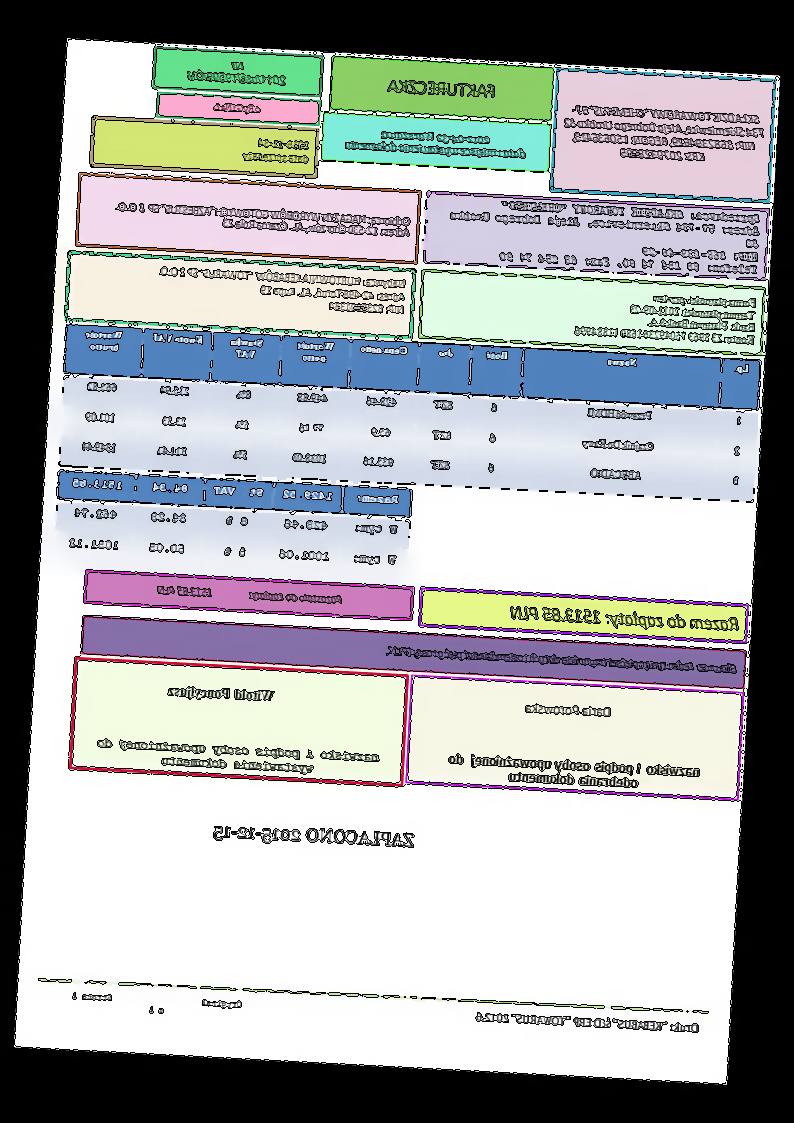Table: (58, 322, 763, 504), (52, 469, 415, 580)
TextBox: (445, 193, 763, 276), (561, 100, 768, 168), (383, 640, 741, 679), (156, 264, 408, 315), (96, 736, 383, 779), (113, 199, 412, 240), (572, 285, 761, 347), (445, 752, 704, 794), (508, 599, 743, 633), (471, 1006, 703, 1037), (211, 820, 419, 854), (341, 126, 529, 161), (67, 990, 244, 1020), (155, 582, 347, 606), (185, 54, 291, 89), (384, 76, 500, 102), (164, 681, 278, 705), (521, 696, 615, 720), (241, 135, 312, 166), (211, 99, 264, 115)
